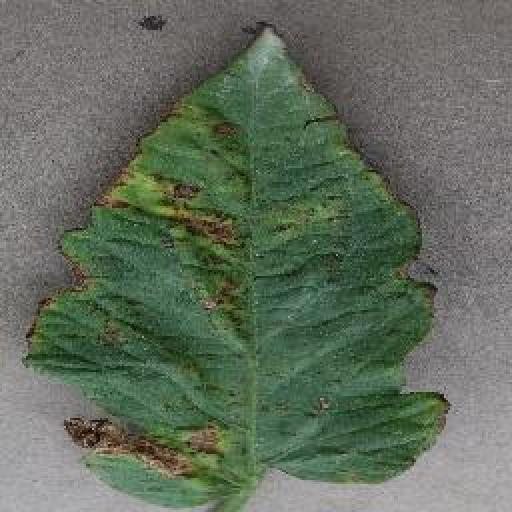Bacterial Spot: (23, 16, 456, 512)
